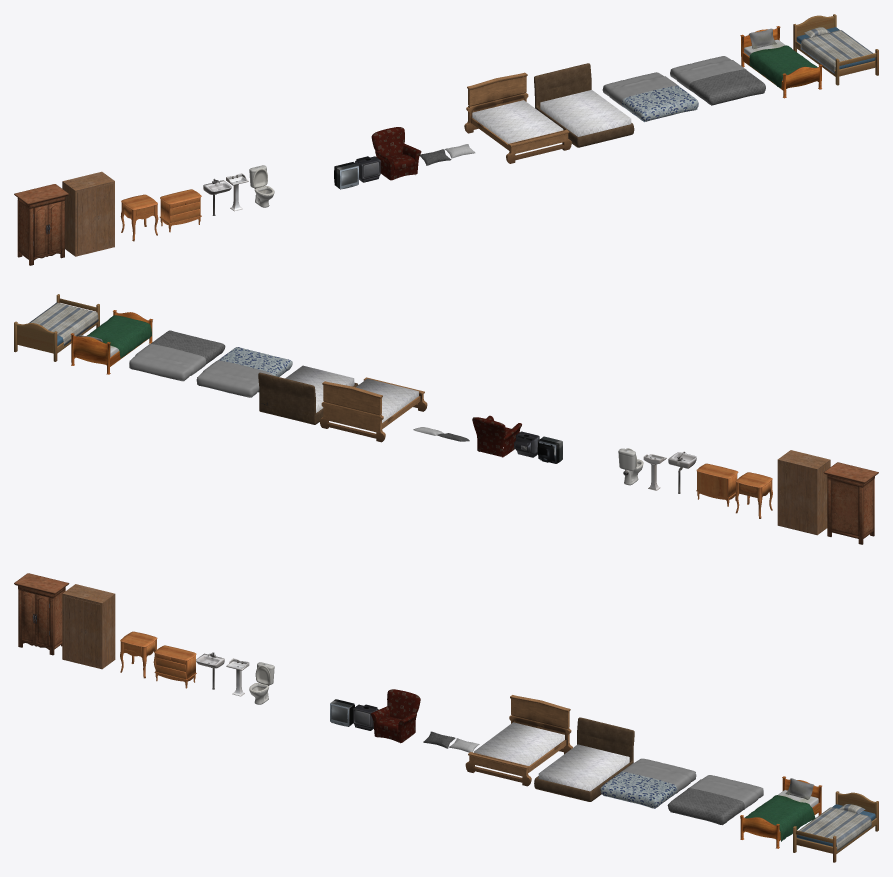
File: ATLASING furniture_assets.fbx
3 renders of one model, top to bottom at view 1: azimuth 30°, elevation 25°; view 2: azimuth 150°, elevation 25°; view 3: azimuth 330°, elevation 25°, orthographic.
Parts seen in each view (by area): view 1: double_bed_1, double_bed_2, wardrobe_2, wardrobe_1, bedsheet_1, bedsheet_2.004, sofa, single_bedsheet_2, single_bed_2, single_bedsheed_1, single_bed_1, table_1 (+4 smaller); view 2: double_bed_1, wardrobe_2, wardrobe_1, double_bed_2, bedsheet_2.004, bedsheet_1, single_bed_2, single_bedsheet_2, single_bedsheed_1, single_bed_1, sofa, table_1 (+4 smaller); view 3: double_bed_1, double_bed_2, wardrobe_2, wardrobe_1, bedsheet_1, bedsheet_2.004, sofa, single_bedsheet_2, single_bed_2, single_bedsheed_1, single_bed_1, table_1 (+3 smaller).
Part boxes in pixels (left/top/right/bottom): double_bed_1: left=464, top=72, right=571, bottom=163; double_bed_2: left=534, top=63, right=634, bottom=147; wardrobe_2: left=62, top=171, right=114, bottom=256; wardrobe_1: left=14, top=184, right=68, bottom=265; bedsheet_1: left=602, top=72, right=698, bottom=122; bedsheet_2.004: left=670, top=56, right=765, bottom=105; sofa: left=371, top=127, right=421, bottom=180; single_bedsheet_2: left=800, top=30, right=873, bottom=73; single_bed_2: left=793, top=14, right=878, bottom=85; single_bedsheed_1: left=749, top=45, right=817, bottom=87; single_bed_1: left=740, top=26, right=822, bottom=98; table_1: left=159, top=189, right=201, bottom=232; double_bed_1: left=319, top=377, right=427, bottom=442; wardrobe_2: left=777, top=450, right=830, bottom=535; wardrobe_1: left=823, top=462, right=878, bottom=544; double_bed_2: left=258, top=365, right=358, bottom=424; bedsheet_2.004: left=129, top=330, right=225, bottom=381; bedsheet_1: left=196, top=347, right=292, bottom=397; single_bed_2: left=14, top=294, right=99, bottom=361; single_bedsheet_2: left=29, top=302, right=98, bottom=345; single_bedsheed_1: left=87, top=315, right=151, bottom=358; single_bed_1: left=70, top=310, right=152, bottom=374; sofa: left=472, top=415, right=521, bottom=457; table_1: left=696, top=463, right=738, bottom=506; double_bed_1: left=465, top=695, right=572, bottom=786; double_bed_2: left=534, top=717, right=634, bottom=801; wardrobe_2: left=62, top=584, right=115, bottom=669; wardrobe_1: left=14, top=573, right=69, bottom=655; bedsheet_1: left=600, top=758, right=696, bottom=808; bedsheet_2.004: left=667, top=775, right=763, bottom=825; sofa: left=371, top=689, right=420, bottom=743; single_bedsheet_2: left=798, top=807, right=871, bottom=850; single_bed_2: left=793, top=791, right=878, bottom=862; single_bedsheed_1: left=745, top=795, right=815, bottom=841; single_bed_1: left=740, top=776, right=821, bottom=848; table_1: left=154, top=645, right=196, bottom=688.
Bounding box in the file's own units: 26.17 × 1.97 × 2.47.
